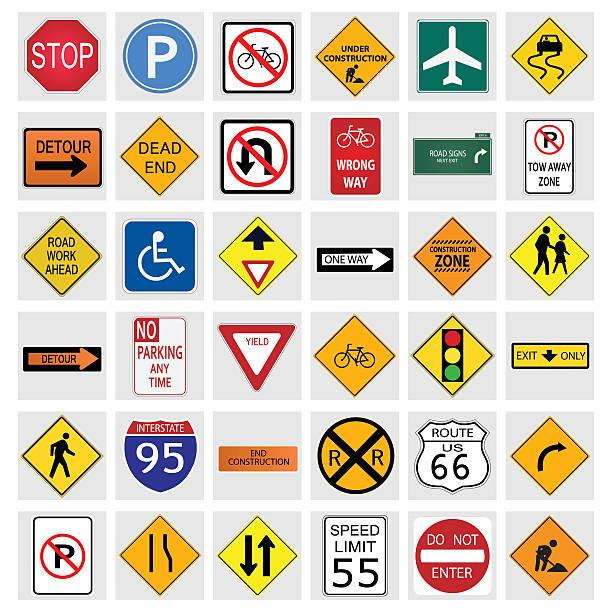Do Not Enter: (414, 518, 493, 595)
